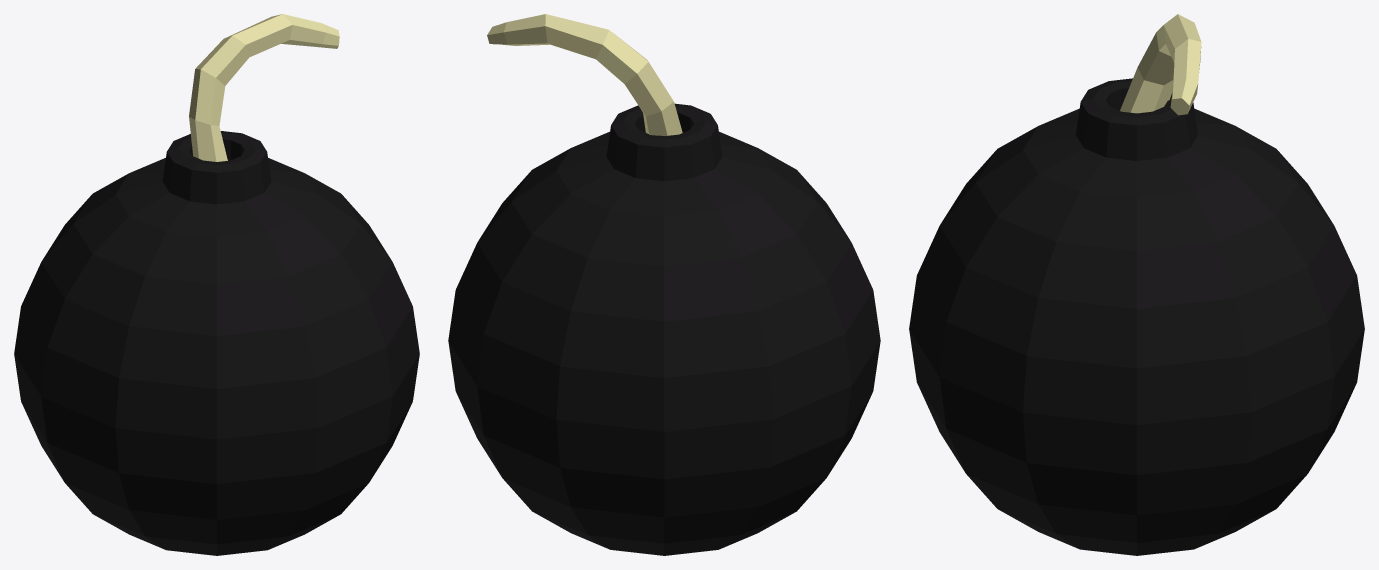
File: Bomb.fbx
3 renders of one model, left to right at view 1: azimuth 30°, elevation 25°; view 2: azimuth 150°, elevation 25°; view 3: azimuth 270°, elevation 25°, orthographic. The views are drawn at different scales.
Parts seen in each view (by area): view 1: Bomb; view 2: Bomb; view 3: Bomb.
Part boxes in pixels (x1,y1,x2,y2): Bomb: [14, 14, 419, 555]; Bomb: [448, 14, 880, 555]; Bomb: [909, 14, 1364, 555].
Size of the model in its own units: 2 by 2.64 by 2.
